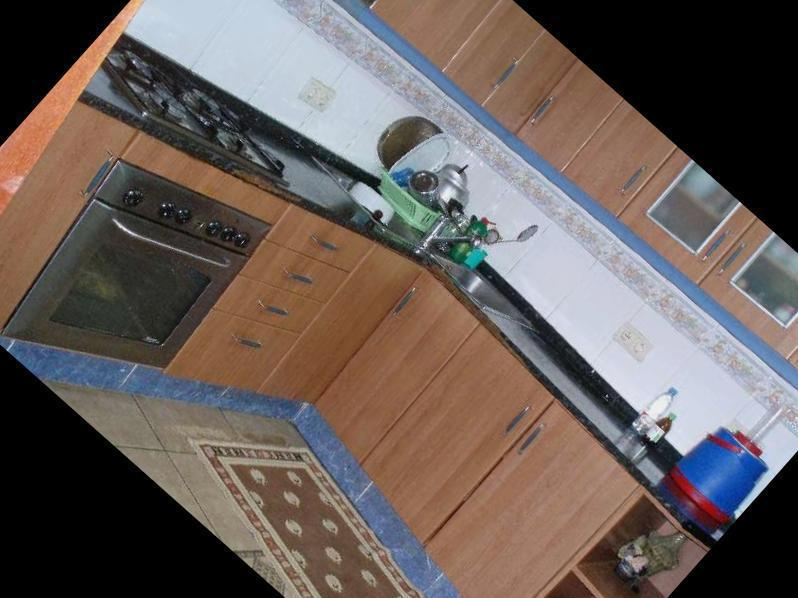Electrodomestico: (0, 110, 289, 434)
Lavaplatos: (397, 192, 572, 360)
